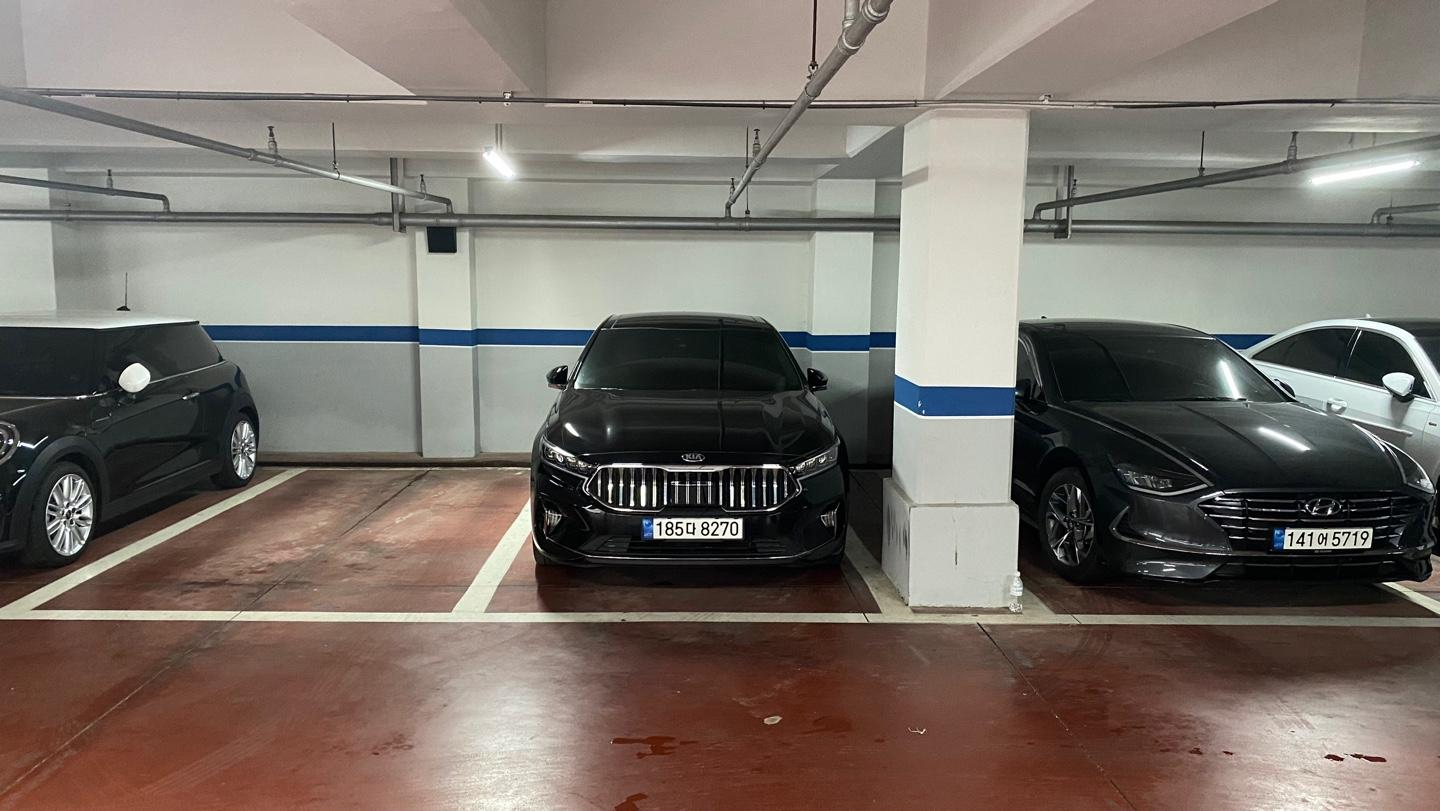occupied: (1019, 317, 1433, 588), (530, 311, 849, 576)
